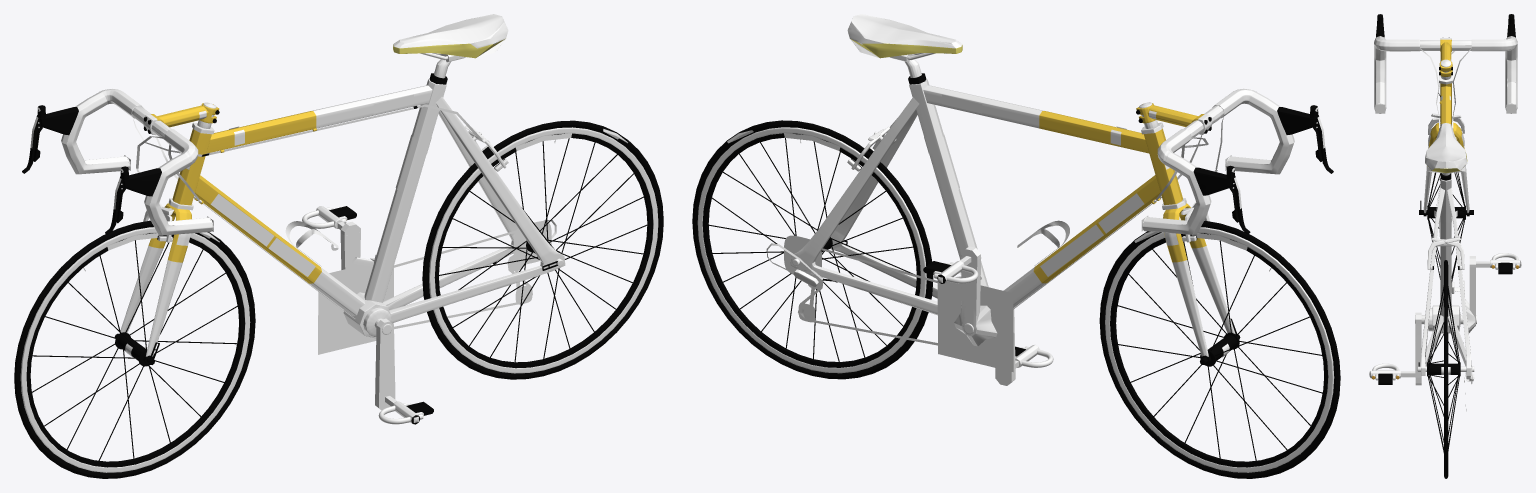
The model's file is road_bike.glb.
The picture shows the model from 3 angles, left to right: view 1: azimuth 30°, elevation 25°; view 2: azimuth 150°, elevation 25°; view 3: azimuth 270°, elevation 25°; orthographic projection. The views are drawn at different scales.
Visible parts, largest first — view 1: body, ban_belakang, ban_depan, handlebars, gear_depan, sedel, arms_depan, gear_belakang, pedal_kiri, pedal_kanan; view 2: body, ban_depan, ban_belakang, handlebars, gear_depan, sedel, arms_depan, pedal_kanan, gear_belakang; view 3: body, handlebars, ban_belakang, sedel, gear_depan, arms_depan, ban_depan, pedal_kiri, pedal_kanan, rem_belakang.
Boxes of the visible parts, bbox=[...] form: body: bbox=[168, 79, 565, 338]; ban_belakang: bbox=[422, 120, 663, 379]; ban_depan: bbox=[14, 220, 255, 478]; handlebars: bbox=[22, 89, 219, 235]; gear_depan: bbox=[318, 221, 418, 422]; sedel: bbox=[393, 14, 508, 84]; arms_depan: bbox=[114, 202, 191, 364]; gear_belakang: bbox=[508, 221, 551, 304]; pedal_kiri: bbox=[378, 401, 433, 424]; pedal_kanan: bbox=[302, 206, 356, 228]; body: bbox=[766, 79, 1186, 345]; ban_depan: bbox=[1099, 220, 1340, 478]; ban_belakang: bbox=[692, 120, 933, 379]; handlebars: bbox=[1136, 88, 1333, 234]; gear_depan: bbox=[937, 246, 1018, 385]; sedel: bbox=[847, 14, 962, 84]; arms_depan: bbox=[1163, 201, 1240, 364]; pedal_kanan: bbox=[923, 260, 978, 283]; gear_belakang: bbox=[784, 235, 822, 322]; body: bbox=[1415, 72, 1476, 411]; handlebars: bbox=[1374, 14, 1517, 124]; ban_belakang: bbox=[1427, 260, 1460, 478]; sedel: bbox=[1425, 123, 1467, 180]; gear_depan: bbox=[1369, 256, 1521, 385]; arms_depan: bbox=[1419, 113, 1473, 216]; ban_depan: bbox=[1427, 172, 1465, 282]; pedal_kiri: bbox=[1370, 363, 1400, 384]; pedal_kanan: bbox=[1490, 253, 1520, 274]; rem_belakang: bbox=[1427, 236, 1464, 270].
Bounding box in the file's own units: 1.75 × 0.954 × 0.4525.
31 materials, 20 textured.
